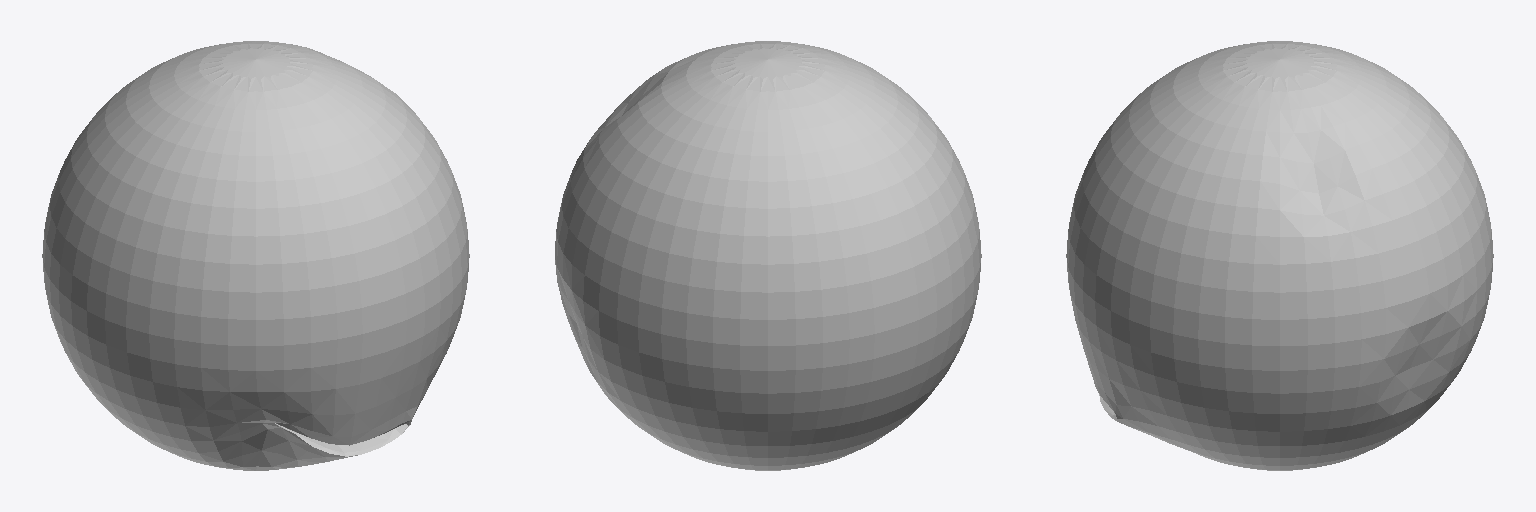
Rendered from morph_smug.obj.
3 views of the same model, side by side, from view 1: azimuth 30°, elevation 25°; view 2: azimuth 150°, elevation 25°; view 3: azimuth 270°, elevation 25° (orthographic).
Parts seen in each view (by area): view 1: peg_head_ui pegman_head peg_head HyperNURBS_1 HEAD; view 2: peg_head_ui pegman_head peg_head HyperNURBS_1 HEAD; view 3: peg_head_ui pegman_head peg_head HyperNURBS_1 HEAD.
Part boxes in pixels (bbox=[...]): peg_head_ui pegman_head peg_head HyperNURBS_1 HEAD: bbox=[42, 41, 469, 470]; peg_head_ui pegman_head peg_head HyperNURBS_1 HEAD: bbox=[555, 41, 981, 470]; peg_head_ui pegman_head peg_head HyperNURBS_1 HEAD: bbox=[1066, 41, 1493, 470].
Size of the model in its own units: 88.94 by 90.26 by 88.94.